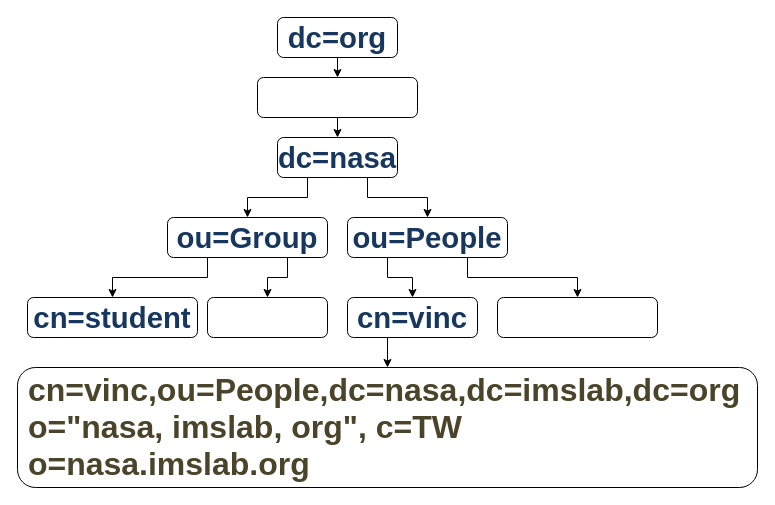
Image size: 775x505. Some labels were removed from this diagram. The shapes that lost their labels are listed below. From the top down, each one's centre as x and y in pixels, then its label:
At point (337, 97): "d c=imslab".
At point (267, 317): "cn =ta".
At point (577, 317): "cn = chmmy".
